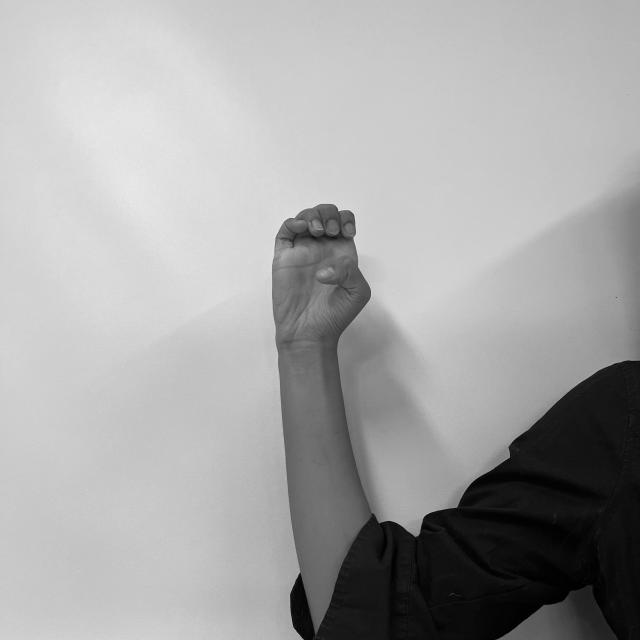Letra E: (267, 200, 375, 346)
